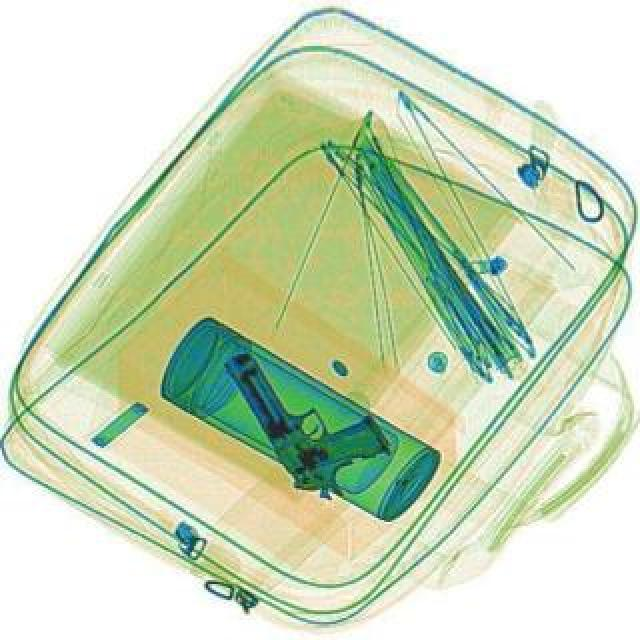gun: (218, 316, 398, 510)
